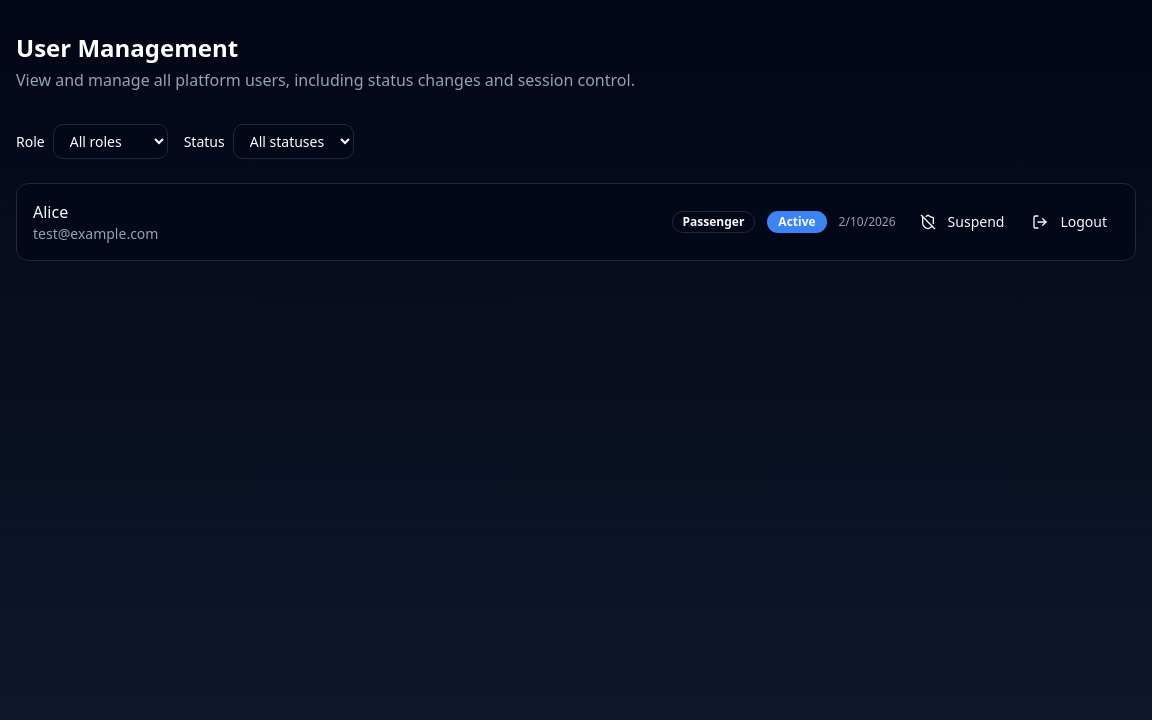
AdminUsersPage › actions › closes dialog on cancel
Click the button with aria-label "Suspend Alice".
click(962, 222)  # box [908, 204, 1016, 240]
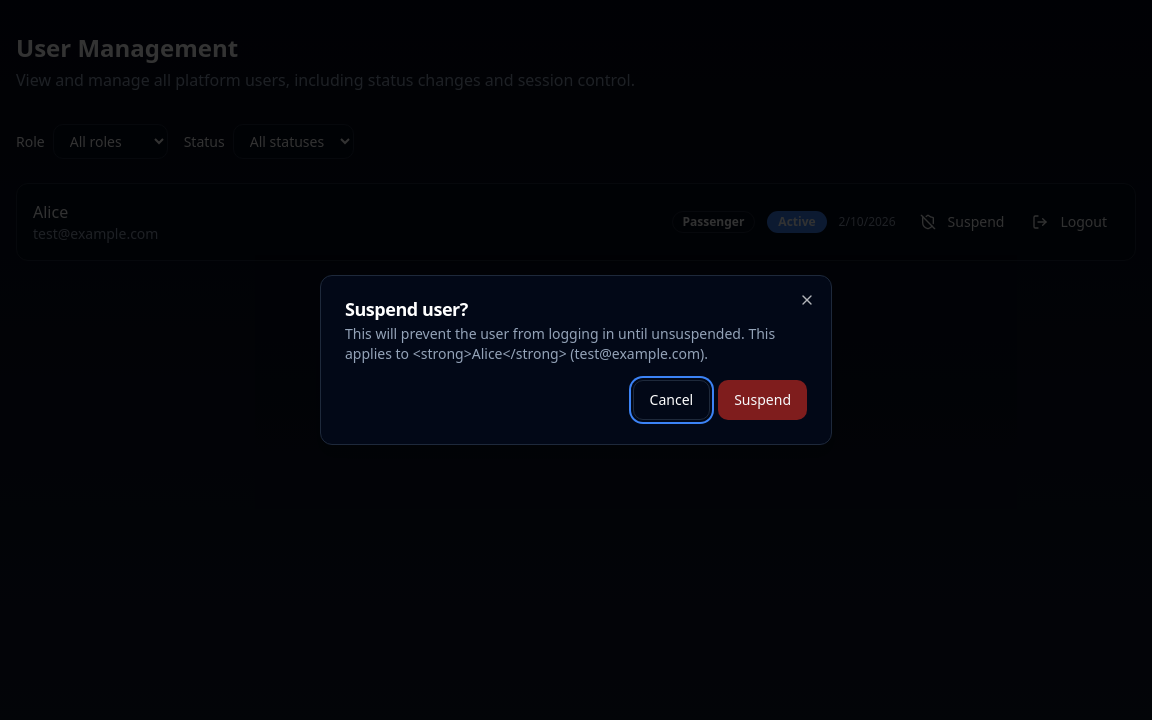
Expected: the dialog is shown, [320, 275, 832, 445]
Click the button "Cancel".
click(671, 400)  # box [633, 380, 710, 420]
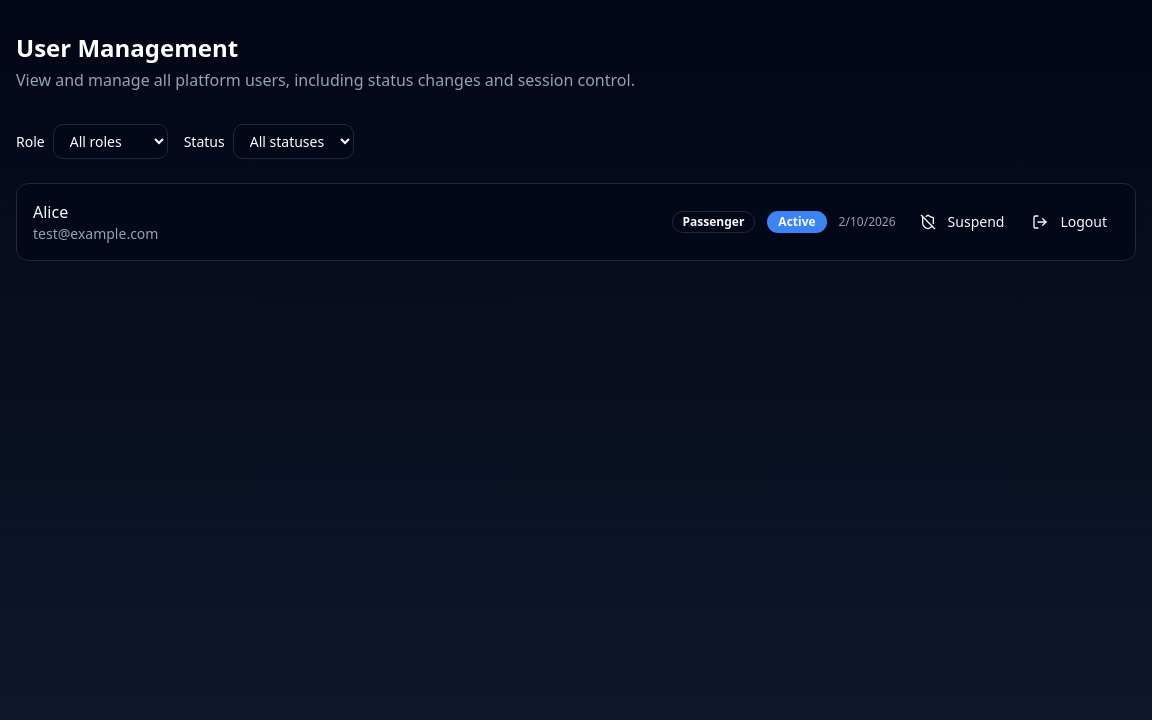
Expected: the dialog is gone
